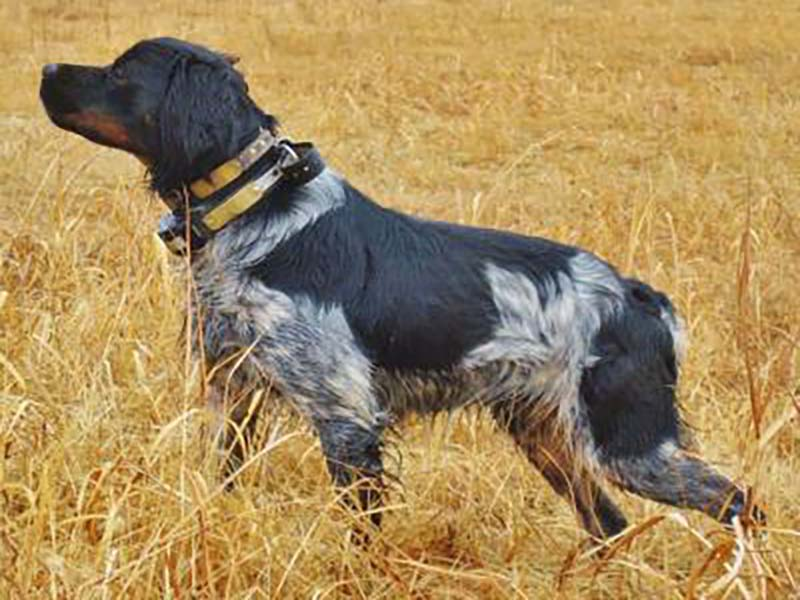cane da caccia: (40, 36, 773, 557)
